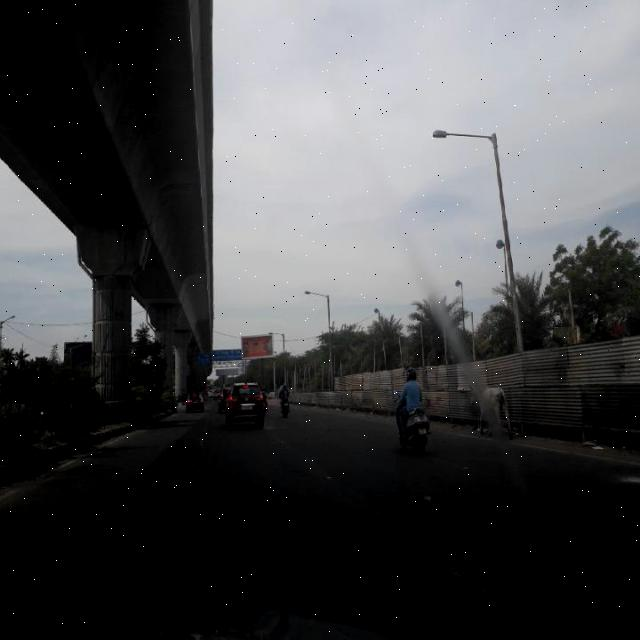D44: (443, 558, 550, 636), (177, 458, 201, 492)
